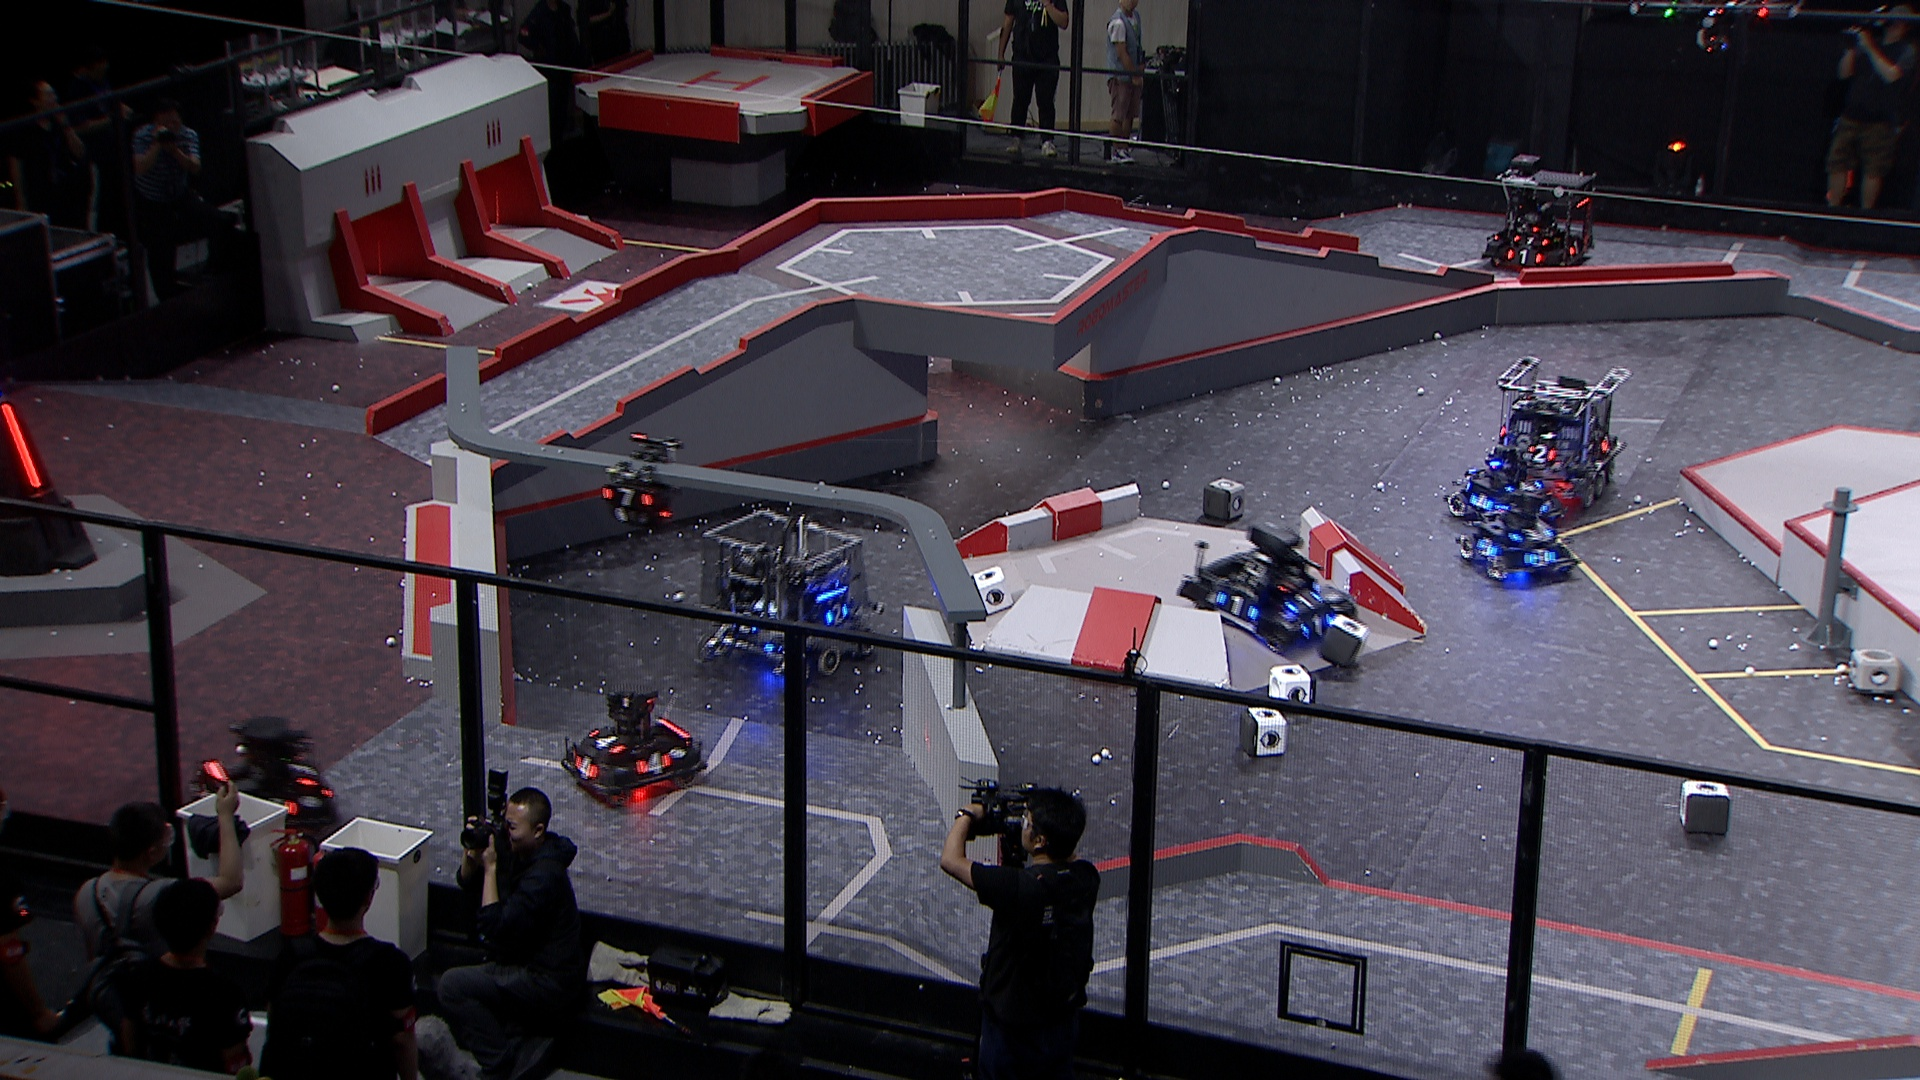armor: (0, 400, 44, 489), (1215, 589, 1262, 622), (603, 484, 657, 512), (1299, 612, 1337, 642), (588, 728, 626, 757), (636, 752, 674, 779), (1286, 588, 1325, 615), (285, 760, 320, 789), (1510, 527, 1555, 545), (731, 609, 760, 636), (574, 756, 600, 783), (1505, 479, 1542, 496), (825, 603, 852, 626), (1468, 491, 1495, 513), (1524, 547, 1557, 566), (1506, 248, 1544, 264), (1528, 444, 1556, 465), (1476, 535, 1499, 559), (1513, 233, 1551, 248), (1538, 498, 1557, 520), (1569, 237, 1584, 257), (1600, 433, 1613, 454)
car: (698, 508, 884, 678), (1182, 517, 1364, 655), (1494, 352, 1633, 506), (190, 712, 339, 836), (556, 687, 713, 804), (1482, 152, 1596, 272), (1453, 488, 1581, 585), (1443, 440, 1564, 538)
watcher: (604, 433, 683, 531)
